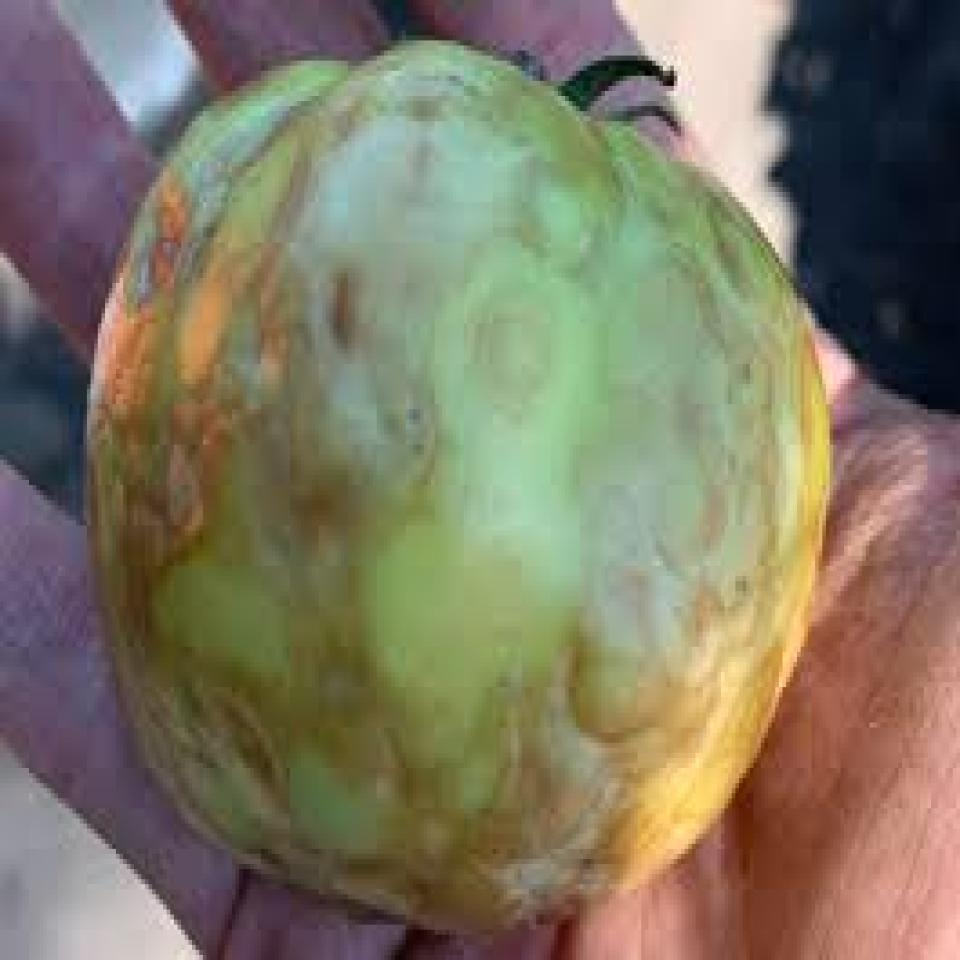Spotted wilt Virus: (87, 40, 830, 935)
